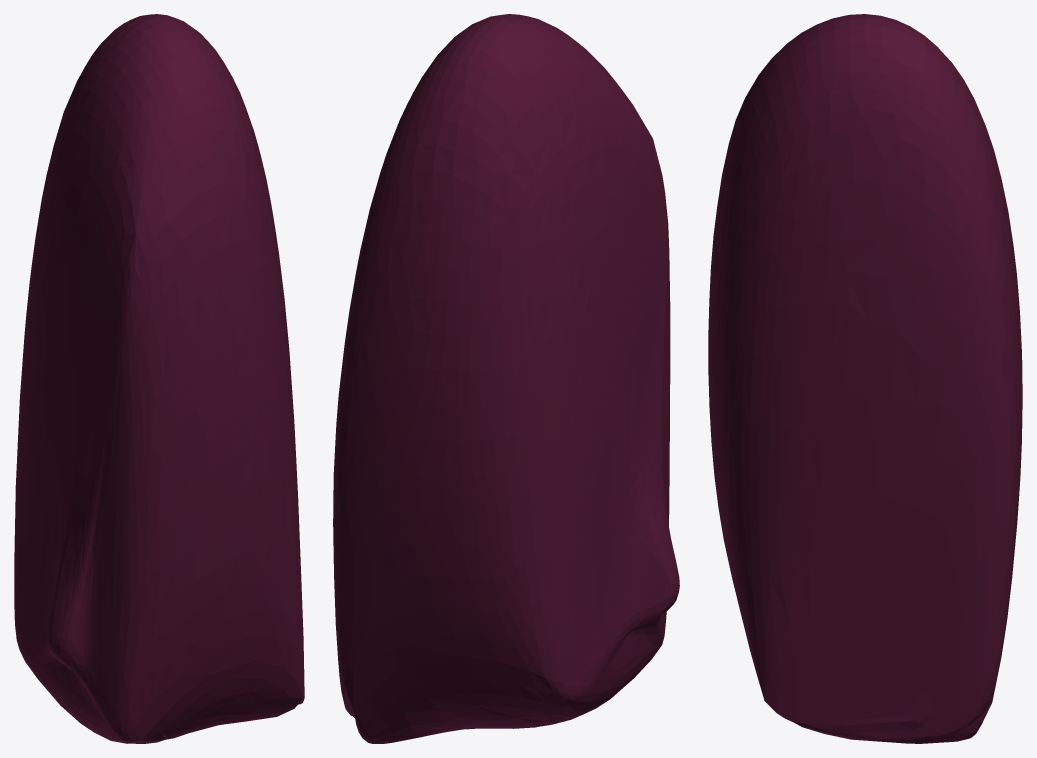
3 renders of one model, left to right at view 1: azimuth 30°, elevation 25°; view 2: azimuth 150°, elevation 25°; view 3: azimuth 270°, elevation 25°, orthographic. The views are drawn at different scales.
Visible parts, largest first — view 1: 697_Cube.2798; view 2: 697_Cube.2798; view 3: 697_Cube.2798.
Boxes of the visible parts, box(x1,y1,x2,y2) form: 697_Cube.2798: box(14, 14, 304, 743); 697_Cube.2798: box(333, 14, 679, 743); 697_Cube.2798: box(708, 14, 1022, 743).
Size of the model in its own units: 4.13 by 11.24 by 4.67.
